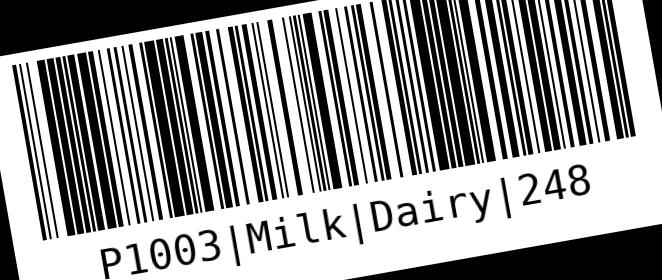milk: (5, 0, 650, 279)
